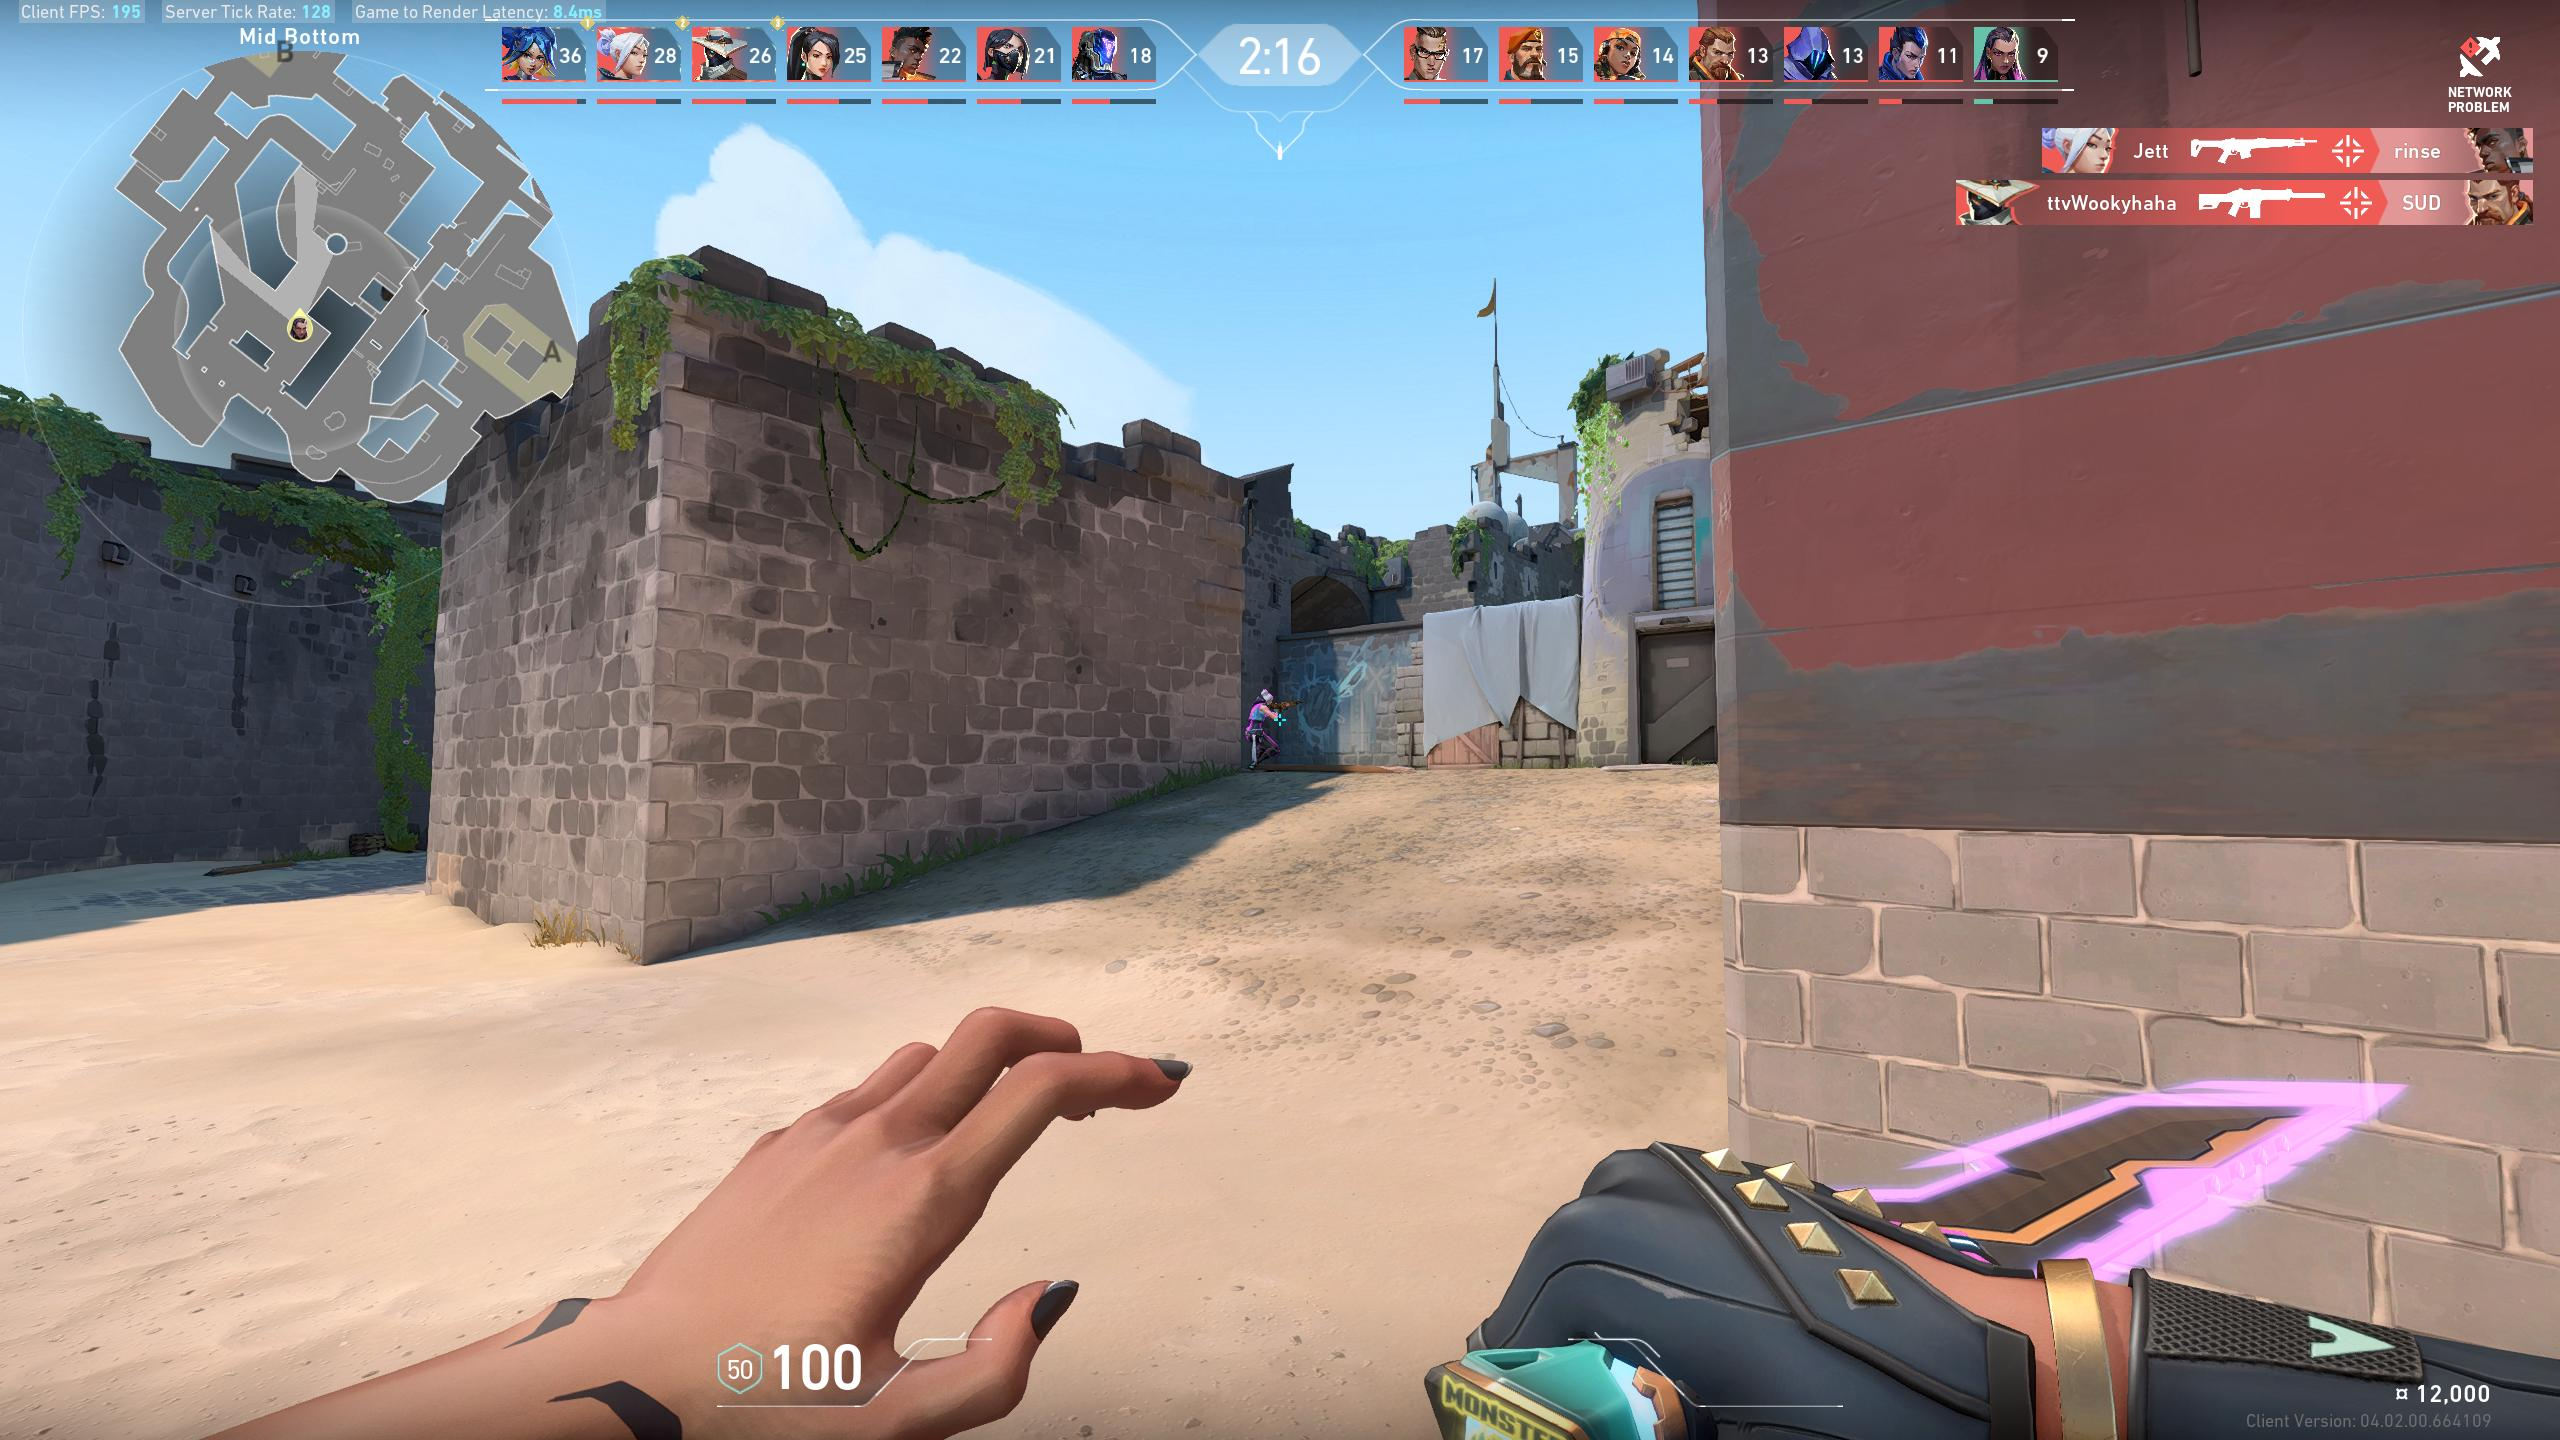enemyBody: (1254, 707, 1262, 723)
enemyHead: (1266, 695, 1271, 703)
